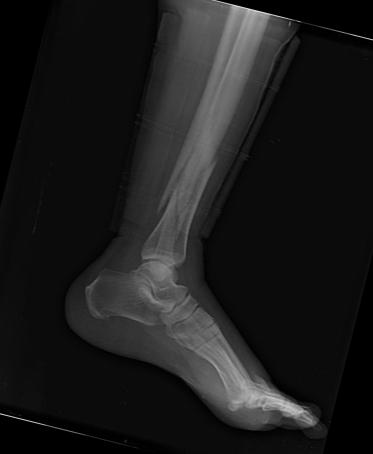fractured: (155, 141, 219, 245)
